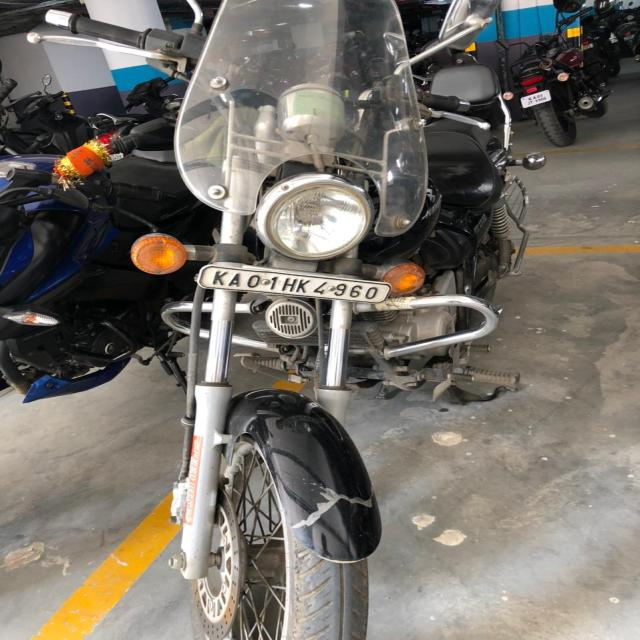number plate: (196, 263, 392, 304)
